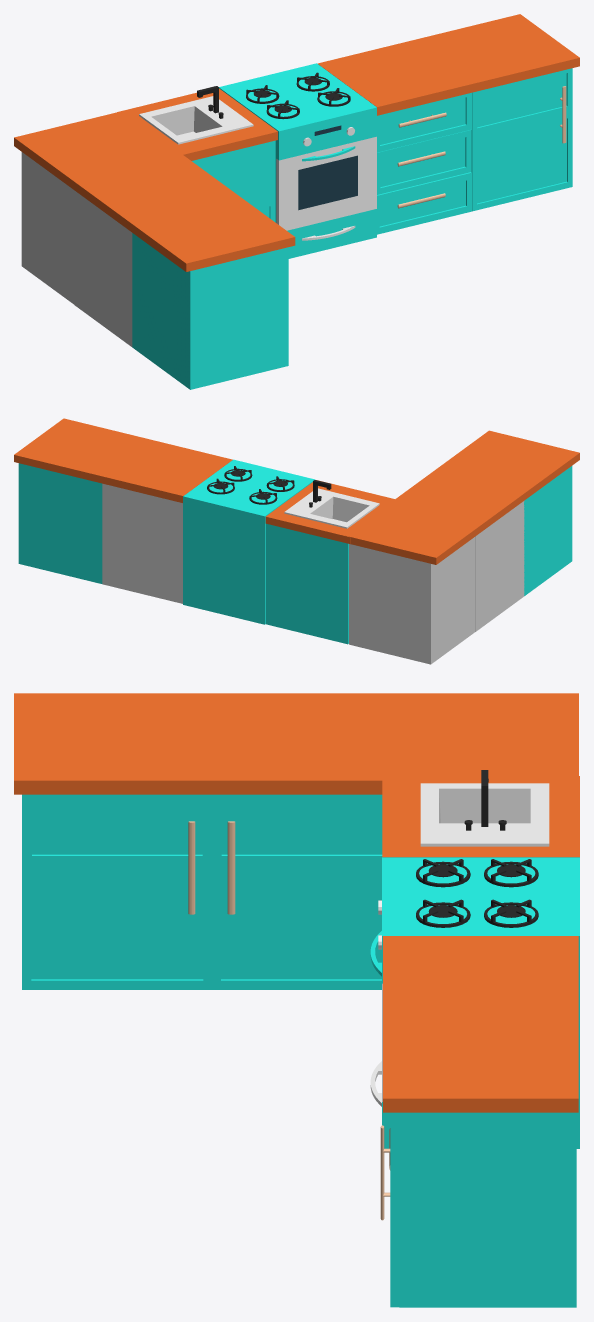
File: kitchen-counter-burner-sink-oven.fbx
3 renders of one model, top to bottom at view 1: azimuth 30°, elevation 25°; view 2: azimuth 150°, elevation 25°; view 3: azimuth 270°, elevation 25°, orthographic. The views are drawn at different scales.
Parts seen in each view (by area): view 1: Cube.021, drawer 1, Cube.024, Cube.001, Cube, Cube.004, drawer 1.001, Cube.013, Cube.011, Cube.010, Cube.007, Cube.023 (+5 smaller); view 2: Cube.021, Cube.013, Cube, Cube.024, drawer 1.002, Cube.014, Cube.006, drawer 1.001, drawer 1, Cube.023, Cube.017, Layer0_001.002; view 3: Cube.021, Cube.025, drawer 1.002, Cube.024, Cube.026, Cube, Cube.017, Cube.023, Layer0_001.002, Cube.001.
Part boxes in pixels (x1,y1,x2,y2): Cube.021: (14, 111, 295, 271); drawer 1: (132, 233, 283, 389); Cube.024: (317, 14, 579, 115); Cube.001: (471, 68, 572, 211); Cube: (219, 63, 376, 222); Cube.004: (276, 136, 376, 230); drawer 1.001: (74, 190, 132, 346); Cube.013: (21, 152, 74, 304); Cube.011: (377, 129, 471, 194); Cube.010: (377, 172, 471, 234); Cube.007: (377, 92, 471, 152); Cube.023: (117, 88, 277, 160); Cube.021: (345, 430, 579, 564); Cube.013: (349, 537, 475, 664); Cube: (183, 459, 315, 624); Cube.024: (14, 418, 232, 502); drawer 1.002: (18, 463, 102, 583); Cube.014: (266, 523, 348, 644); Cube.006: (102, 483, 182, 603); drawer 1.001: (475, 501, 524, 631); drawer 1: (524, 466, 572, 595); Cube.023: (265, 480, 394, 543); Cube.017: (284, 488, 379, 528); Layer0_001.002: (207, 466, 294, 504); Cube.021: (14, 693, 578, 794); Cube.025: (22, 794, 212, 989); drawer 1.002: (399, 1112, 576, 1307); Cube.024: (383, 936, 578, 1112); Cube.026: (212, 794, 382, 989); Cube: (382, 857, 579, 1148); Cube.017: (420, 783, 549, 846); Cube.023: (382, 776, 579, 857); Layer0_001.002: (416, 859, 538, 927); Cube.001: (380, 1112, 399, 1307).
Bounding box in the file's own units: 1179 × 354 × 696.
